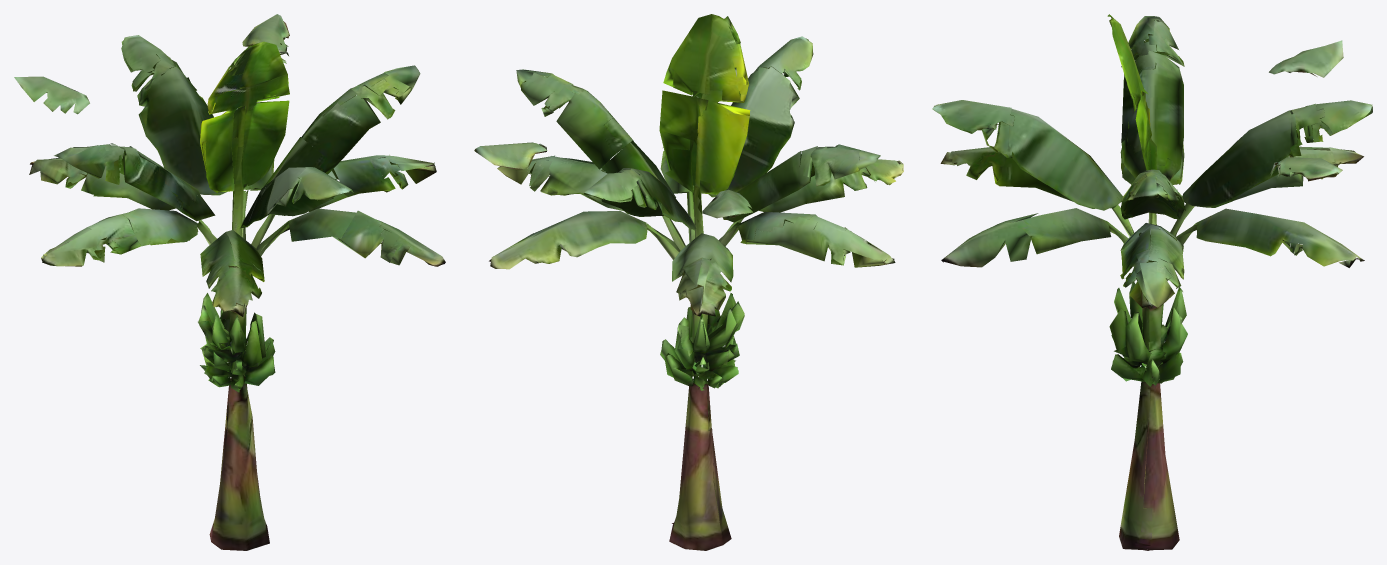
The model's file is banana.glb.
3 views of the same model, side by side, from view 1: azimuth 30°, elevation 25°; view 2: azimuth 150°, elevation 25°; view 3: azimuth 270°, elevation 25° (orthographic). The views are drawn at different scales.
Parts seen in each view (by area): view 1: model; view 2: model; view 3: model.
Boxes of the visible parts, <box> form: model: <box>14,14,445,550</box>; model: <box>474,14,903,550</box>; model: <box>932,14,1372,550</box>.
Size of the model in its own units: 0.8099 by 0.9989 by 0.7646.
1 material, 1 textured.
